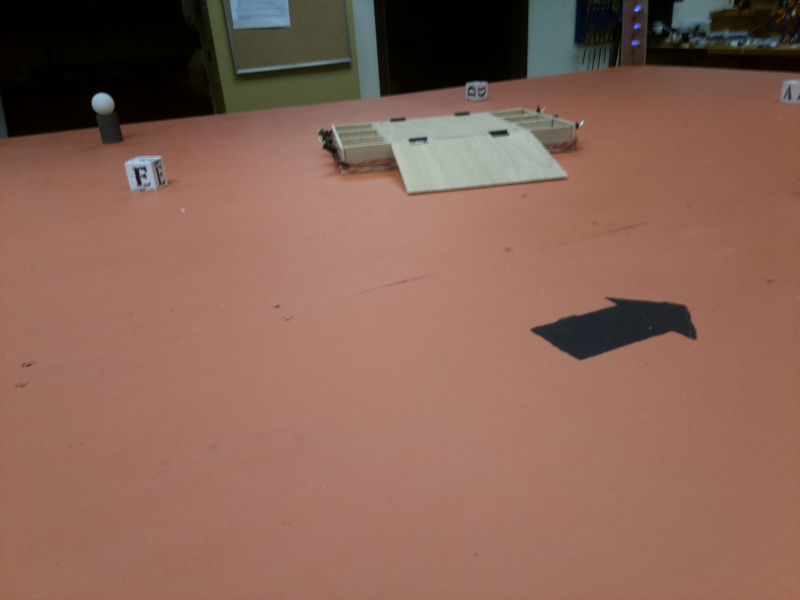blockA: (777, 79, 800, 103)
blockD: (463, 82, 494, 101)
blockE: (125, 154, 168, 193)
obstacle: (85, 91, 128, 144)
side: (525, 96, 587, 132), (313, 123, 341, 173)
slope: (394, 124, 568, 199), (377, 109, 483, 119)
start: (517, 296, 699, 358)
